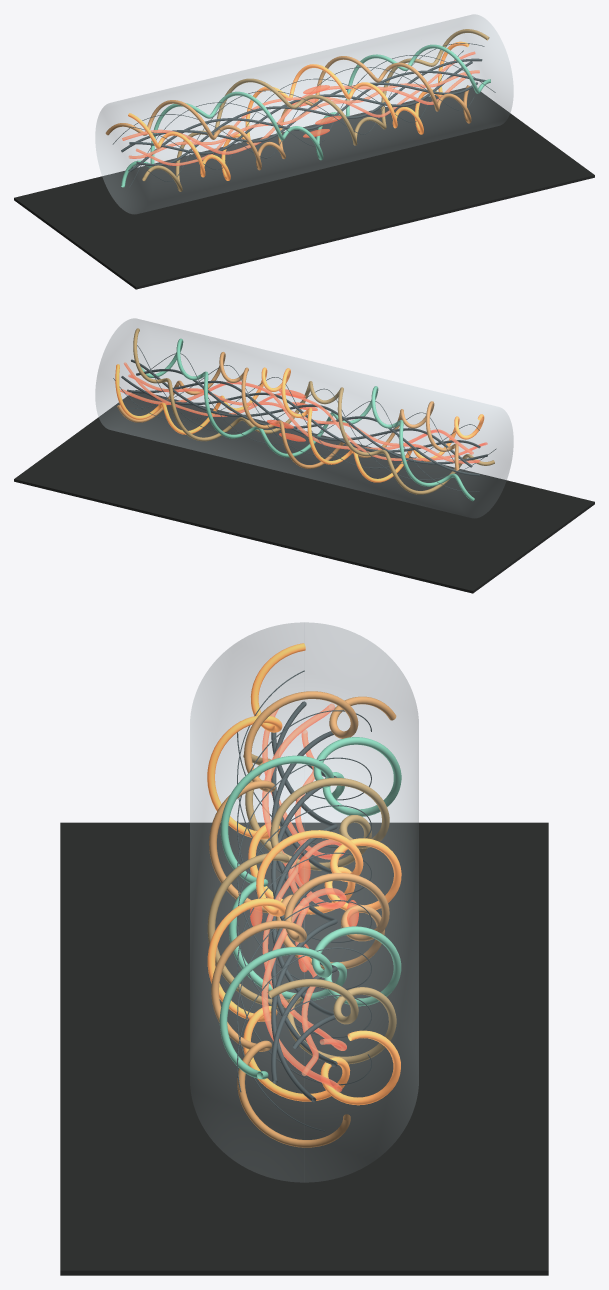
Rendered from lay-next-visual-library.glb.
3 views of the same model, one above another, from view 1: azimuth 30°, elevation 25°; view 2: azimuth 150°, elevation 25°; view 3: azimuth 270°, elevation 25° (orthographic). The views are drawn at different scales.
Parts seen in each view (by area): view 1: NEXT analyzer floor, Transparent jacket boundary, Pair_1_wire_A_lay_11, Pair_2_wire_A_lay_13, Pair_3_wire_A_lay_15, Pair_4_wire_A_lay_17, NEXT_Field_P1_to_P2, NEXT_Field_P1_to_P3, NEXT_Field_P1_to_P4, Cross_Spline_Rib_3.1, Cross_Spline_Rib_4.7, Cross_Spline_Rib_1.6 (+5 smaller); view 2: NEXT analyzer floor, Transparent jacket boundary, Pair_1_wire_A_lay_11, Pair_3_wire_A_lay_15, Pair_4_wire_A_lay_17, Pair_2_wire_A_lay_13, NEXT_Field_P1_to_P2, NEXT_Field_P1_to_P4, NEXT_Field_P1_to_P3, Cross_Spline_Rib_3.1, Cross_Spline_Rib_0.0, Cross_Spline_Rib_1.6 (+4 smaller); view 3: NEXT analyzer floor, Transparent jacket boundary, Pair_1_wire_A_lay_11, Pair_2_wire_A_lay_13, Pair_3_wire_A_lay_15, Pair_4_wire_A_lay_17, NEXT_Field_P1_to_P2, Cross_Spline_Rib_0.0, NEXT_Field_P1_to_P4, Cross_Spline_Rib_3.1, NEXT_Field_P1_to_P3, Cross_Spline_Rib_1.6 (+5 smaller).
Boxes of the visible parts, x1,y1,x2,y2 form: NEXT analyzer floor: (14,87,594,289); Transparent jacket boundary: (95,14,513,213); Pair_1_wire_A_lay_11: (128,41,469,180); Pair_2_wire_A_lay_13: (105,56,471,170); Pair_3_wire_A_lay_15: (121,44,490,187); Pair_4_wire_A_lay_17: (142,29,489,191); NEXT_Field_P1_to_P2: (122,74,471,154); NEXT_Field_P1_to_P3: (128,70,479,158); NEXT_Field_P1_to_P4: (135,51,475,165); Cross_Spline_Rib_3.1: (136,58,482,166); Cross_Spline_Rib_4.7: (128,70,485,172); Cross_Spline_Rib_1.6: (129,61,472,154); NEXT analyzer floor: (14,390,594,593); Transparent jacket boundary: (95,318,513,517); Pair_1_wire_A_lay_11: (115,364,484,482); Pair_3_wire_A_lay_15: (141,338,474,501); Pair_4_wire_A_lay_17: (133,328,494,494); Pair_2_wire_A_lay_13: (117,352,459,470); NEXT_Field_P1_to_P2: (120,381,473,454); NEXT_Field_P1_to_P4: (124,362,487,460); NEXT_Field_P1_to_P3: (128,374,480,463); Cross_Spline_Rib_3.1: (131,359,487,464); Cross_Spline_Rib_0.0: (127,380,472,467); Cross_Spline_Rib_1.6: (121,376,480,452); NEXT analyzer floor: (60,822,548,1275); Transparent jacket boundary: (190,622,418,1182); Pair_1_wire_A_lay_11: (207,643,401,1105); Pair_2_wire_A_lay_13: (209,691,396,1147); Pair_3_wire_A_lay_15: (219,737,401,1079); Pair_4_wire_A_lay_17: (207,754,396,1064); NEXT_Field_P1_to_P2: (261,703,346,1092); Cross_Spline_Rib_0.0: (271,731,337,1102); NEXT_Field_P1_to_P4: (262,709,346,1050); Cross_Spline_Rib_3.1: (271,732,337,1048); NEXT_Field_P1_to_P3: (288,729,318,1075); Cross_Spline_Rib_1.6: (271,701,337,1066).
Size of the model in its own units: 7.6 by 2 by 3.5.
